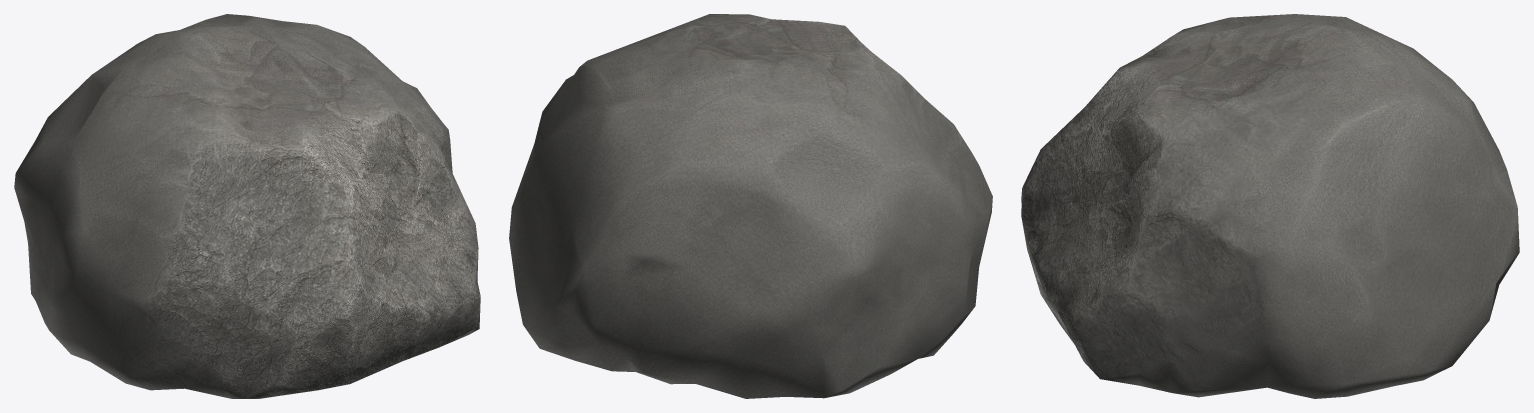
The picture shows the model from 3 angles, left to right: view 1: azimuth 30°, elevation 25°; view 2: azimuth 150°, elevation 25°; view 3: azimuth 270°, elevation 25°; orthographic projection. The views are drawn at different scales.
Parts seen in each view (by area): view 1: mesh_node; view 2: mesh_node; view 3: mesh_node.
Boxes of the visible parts, x1,y1,x2,y2 form: mesh_node: [14, 14, 480, 398]; mesh_node: [509, 14, 992, 398]; mesh_node: [1021, 14, 1519, 398].
Size of the model in its own units: 1.94 by 1.24 by 2.
Materials: 1 (1 with a texture image).
